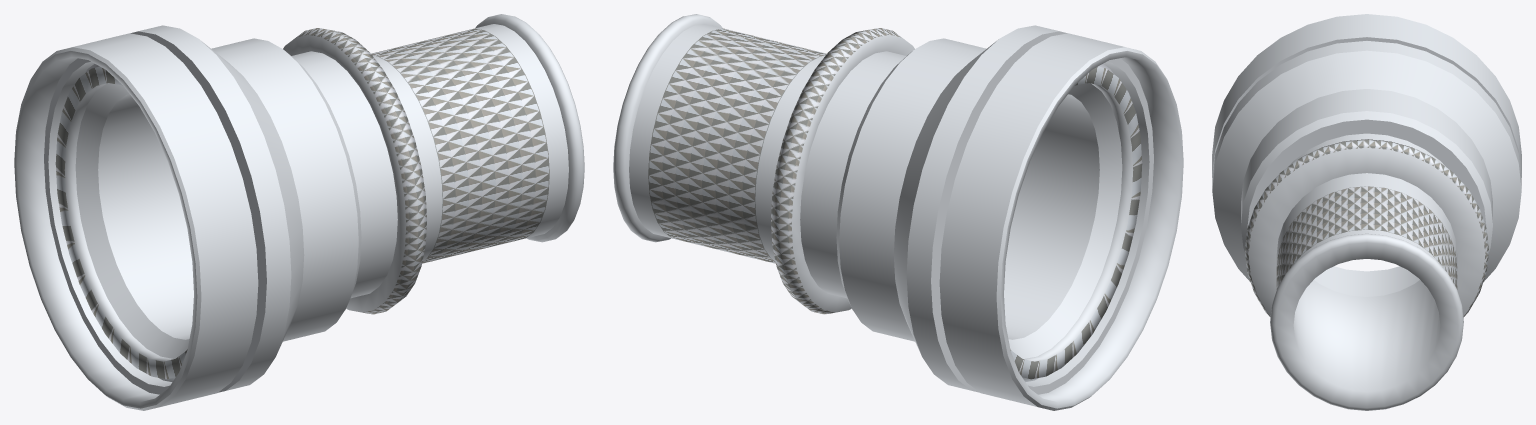
The picture shows the model from 3 angles, left to right: view 1: azimuth 30°, elevation 25°; view 2: azimuth 150°, elevation 25°; view 3: azimuth 270°, elevation 25°; orthographic projection. The views are drawn at different scales.
Parts seen in each view (by area): view 1: GCH03; view 2: GCH03; view 3: GCH03.
Boxes of the visible parts, box(x1,y1,x2,y2) form: GCH03: box(14, 14, 584, 410); GCH03: box(613, 14, 1183, 410); GCH03: box(1212, 14, 1521, 410).
Size of the model in its own units: 32 by 24.36 by 24.36.
1 material, 1 textured.
